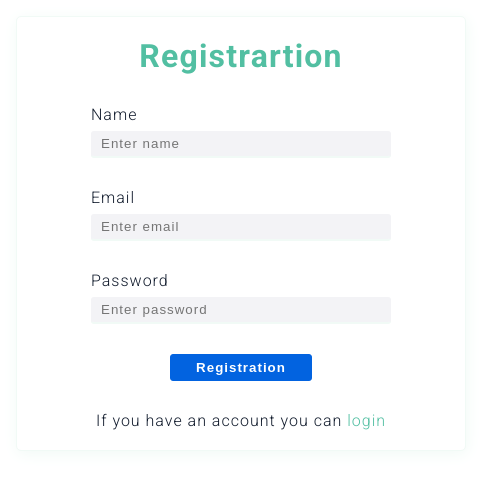
Test: registration comp › server error should be rendered in case of invalid user data
The image size is (483, 484).
Type "Admin" into the field labelled "Name" at (241, 144), box x1=91 y1=131 x2=391 y2=158
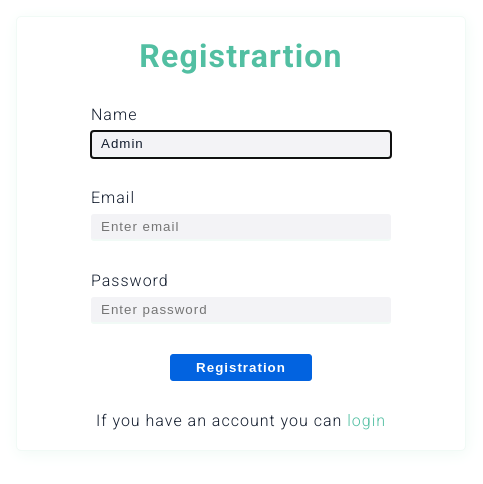
Type "admin@email.com" into the field labelled "Email" at (241, 228), box x1=91 y1=214 x2=391 y2=241
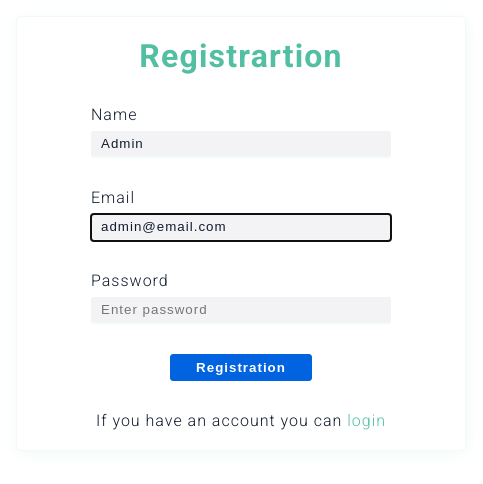
Type "12345qwert" into the password field labelled "Password" at (241, 310), box x1=91 y1=297 x2=391 y2=324
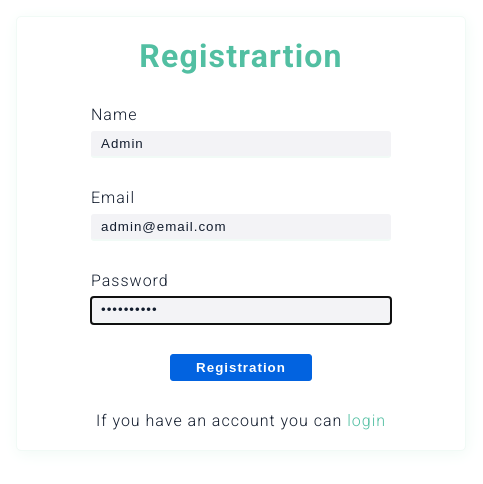
Click the button "Registration" at (241, 368), box x1=170 y1=354 x2=312 y2=381
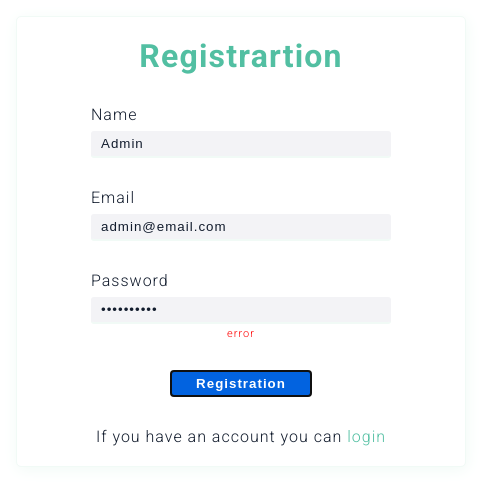
Expected: the text "error" is shown, x1=227 y1=327 x2=255 y2=340
